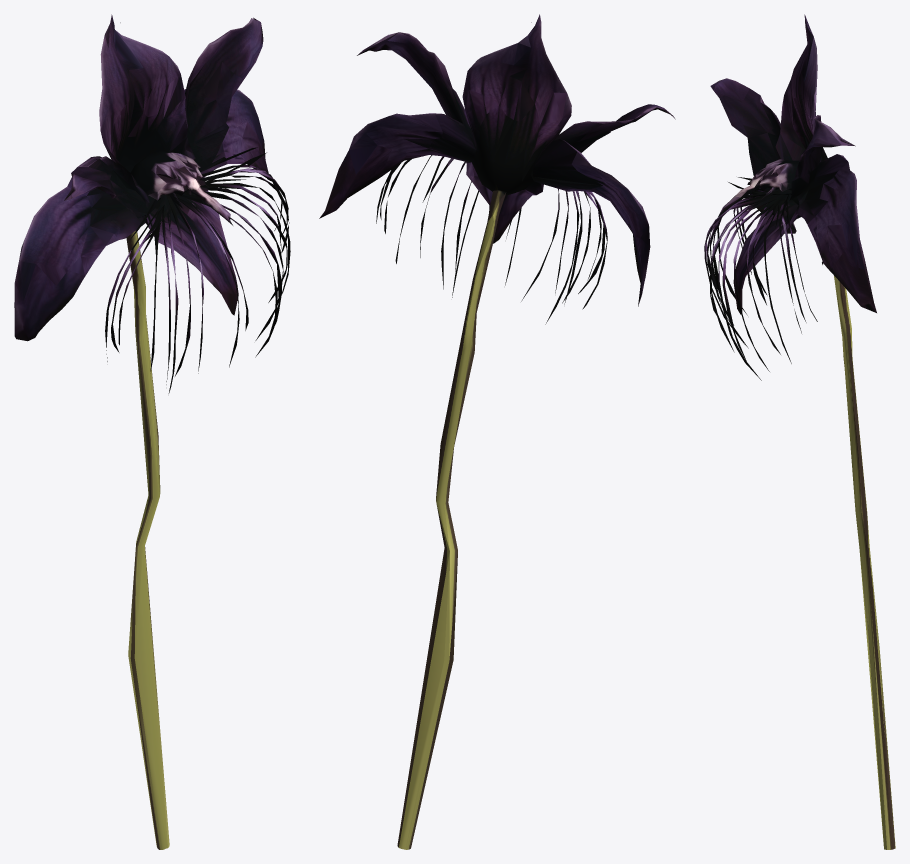
The model's file is garden_flower_01.glb.
The picture shows the model from 3 angles, left to right: view 1: azimuth 30°, elevation 25°; view 2: azimuth 150°, elevation 25°; view 3: azimuth 270°, elevation 25°; orthographic projection. The views are drawn at different scales.
Visible parts, largest first — view 1: geometry_0; view 2: geometry_0; view 3: geometry_0.
Part boxes in pixels (left/top/right/bottom): geometry_0: left=14, top=14, right=290, bottom=849; geometry_0: left=319, top=14, right=675, bottom=849; geometry_0: left=704, top=14, right=895, bottom=849.
Bounding box in the file's own units: 0.5292 × 1.47 × 0.3222.
1 material, 1 textured.
